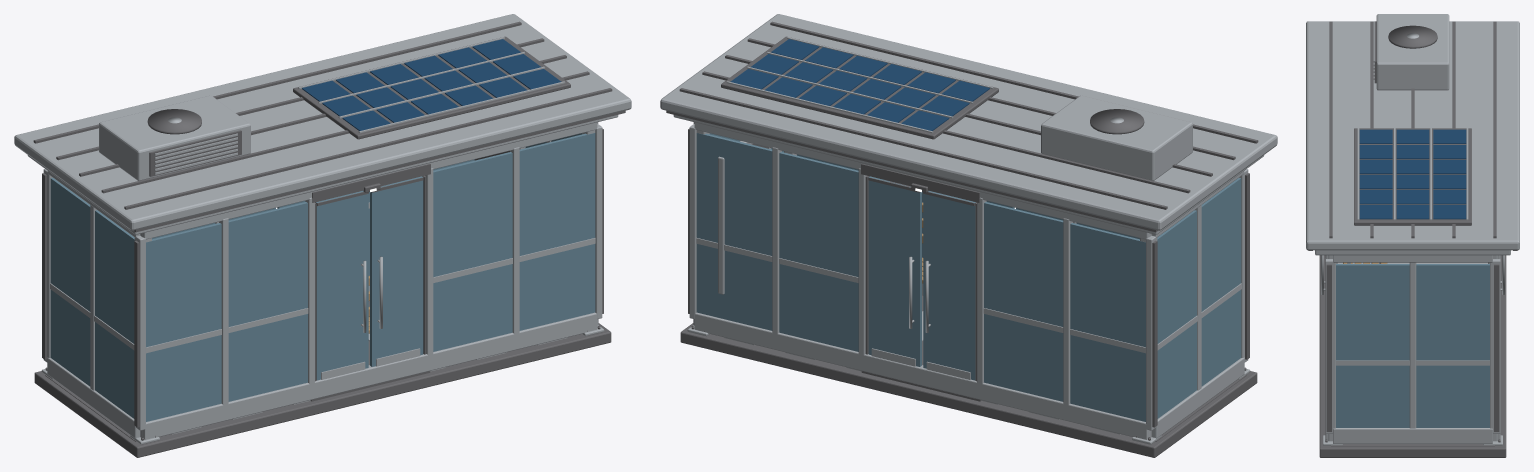
File: bus_shelter.glb
3 views of the same model, side by side, from view 1: azimuth 30°, elevation 25°; view 2: azimuth 150°, elevation 25°; view 3: azimuth 270°, elevation 25° (orthographic). The views are drawn at different scales.
Parts seen in each view (by area): view 1: Merged_PropsGlass, Merged_PropsMetal, Merged_RoofDark, Merged_SolarCell; view 2: Merged_PropsGlass, Merged_PropsMetal, Merged_RoofDark, Merged_SolarCell; view 3: Merged_PropsMetal, Merged_PropsGlass, Merged_RoofDark, Merged_SolarCell.
Boxes of the visible parts, x1,y1,x2,y2 form: Merged_PropsGlass: (50,133,595,421); Merged_PropsMetal: (14,14,631,444); Merged_RoofDark: (33,21,625,457); Merged_SolarCell: (302,39,561,131); Merged_PropsGlass: (696,133,1241,421); Merged_PropsMetal: (660,14,1277,444); Merged_RoofDark: (666,21,1258,457); Merged_SolarCell: (730,39,989,131); Merged_PropsMetal: (1306,14,1519,445); Merged_PropsGlass: (1336,264,1489,427); Merged_RoofDark: (1308,21,1517,457); Merged_SolarCell: (1359,129,1466,219).
Bounding box in the file's own units: 5.75 × 3.06 × 2.35.
